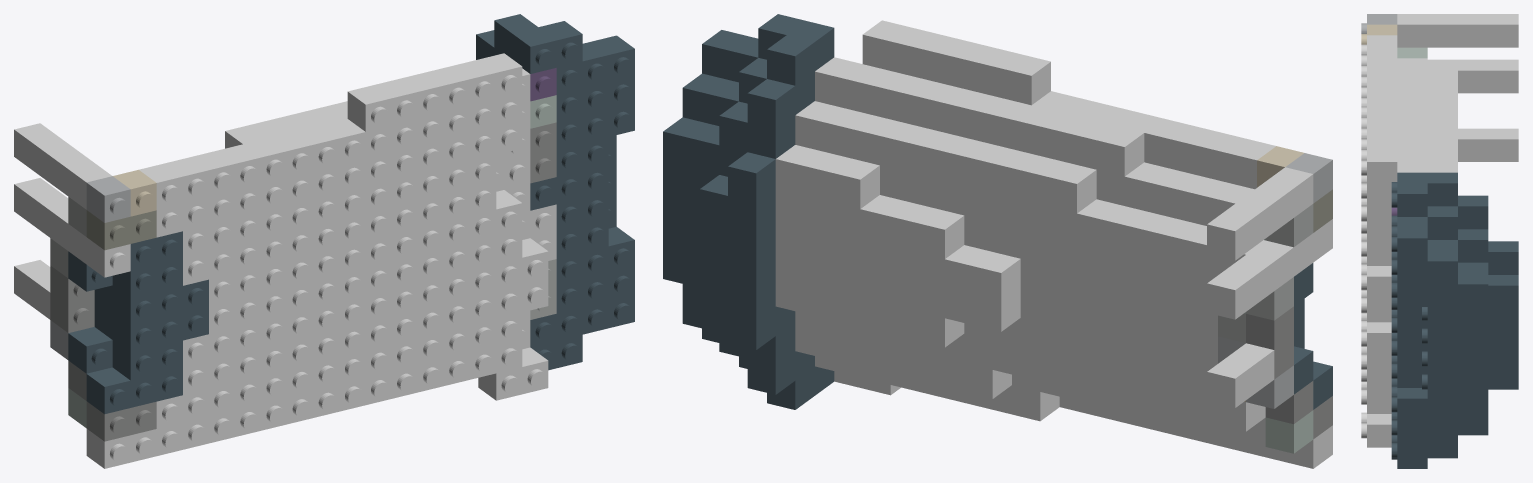
File: full.glb
3 renders of one model, left to right at view 1: azimuth 30°, elevation 25°; view 2: azimuth 150°, elevation 25°; view 3: azimuth 270°, elevation 25°, orthographic. The views are drawn at different scales.
Visible parts, largest first — view 1: world; view 2: world; view 3: world.
Part boxes in pixels (<box>): world: <box>14,14,634,468</box>; world: <box>663,14,1332,468</box>; world: <box>1361,14,1518,468</box>.
Size of the model in its own units: 168 by 96 by 49.8.
